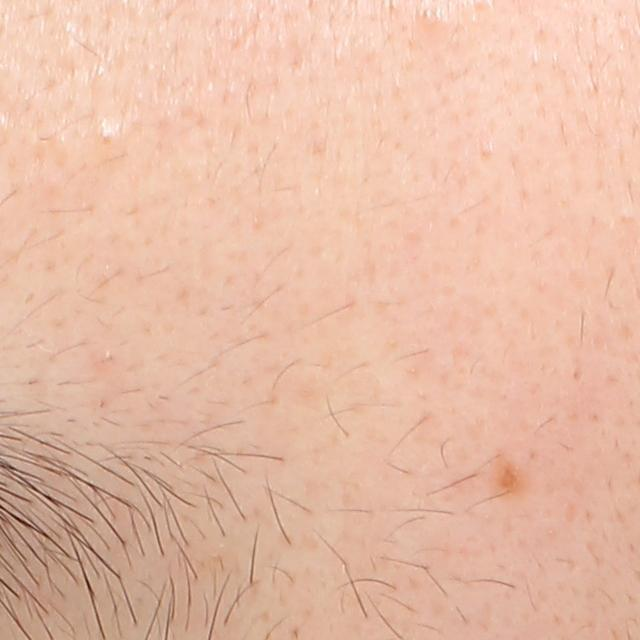comedo: (412, 1, 458, 38), (92, 119, 123, 148)
